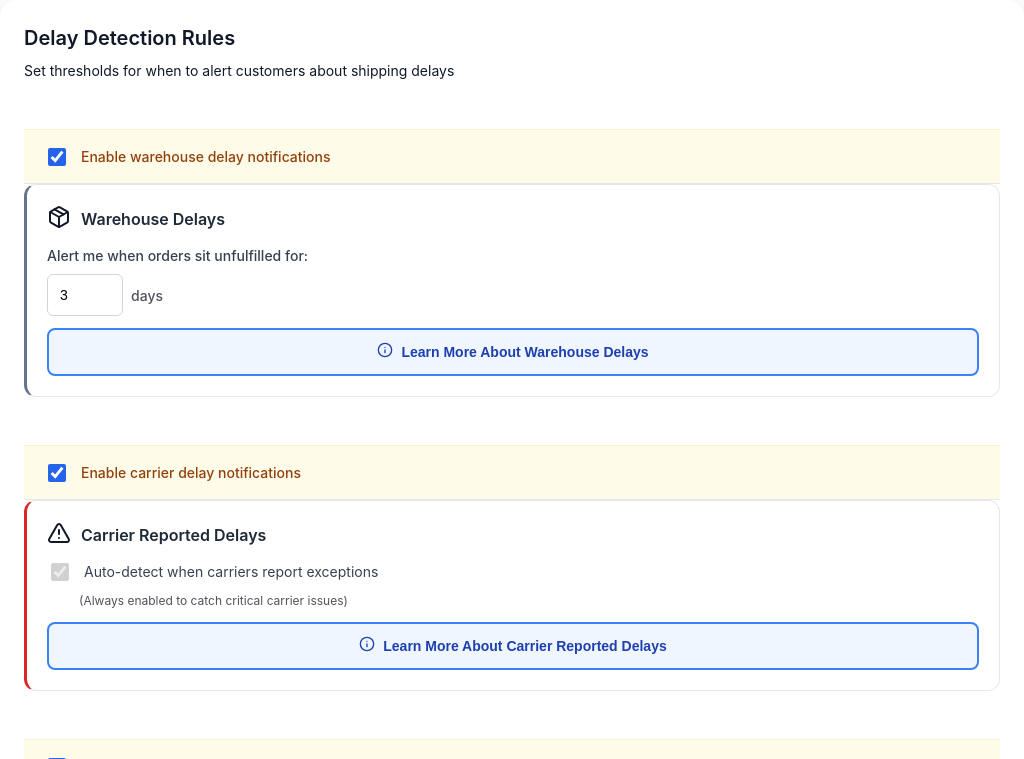
Test case: SettingsCard (Phase 1.4) › Phase 1.4: Help Text and Examples › should display help text for Warehouse Delays
Click the button "Learn More About Warehouse Delays" at point(513, 352), box x1=47 y1=328 x2=979 y2=376
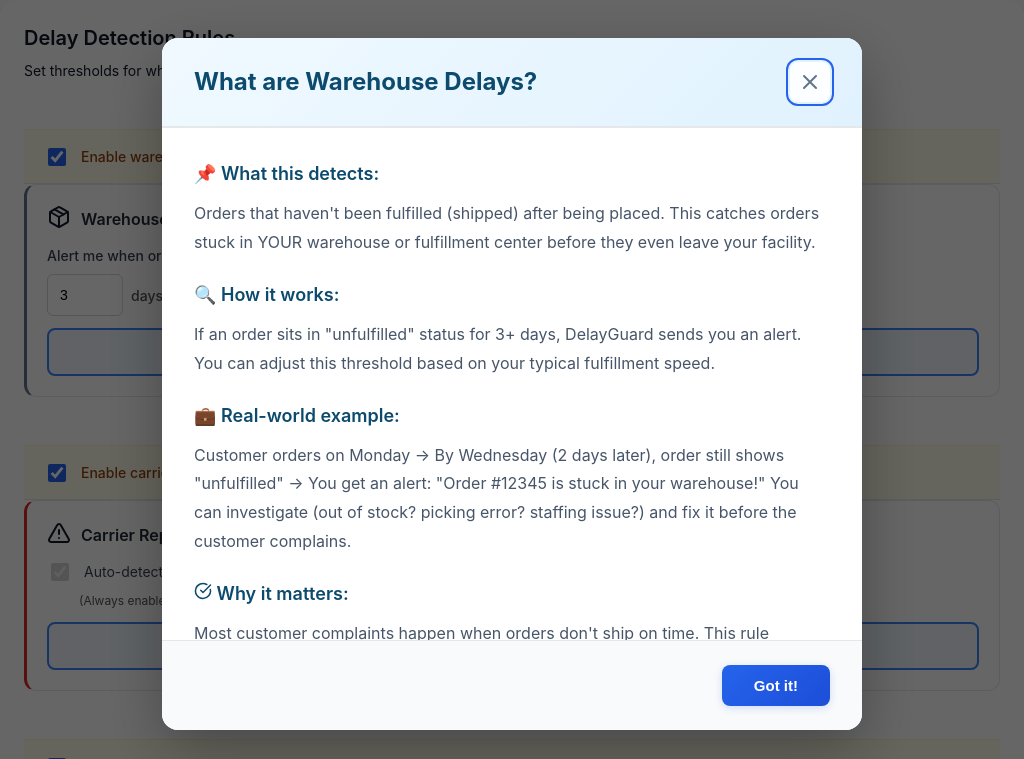
Expected: the text "Orders that haven't been fulfilled" is shown, x1=194 y1=203 x2=819 y2=252
